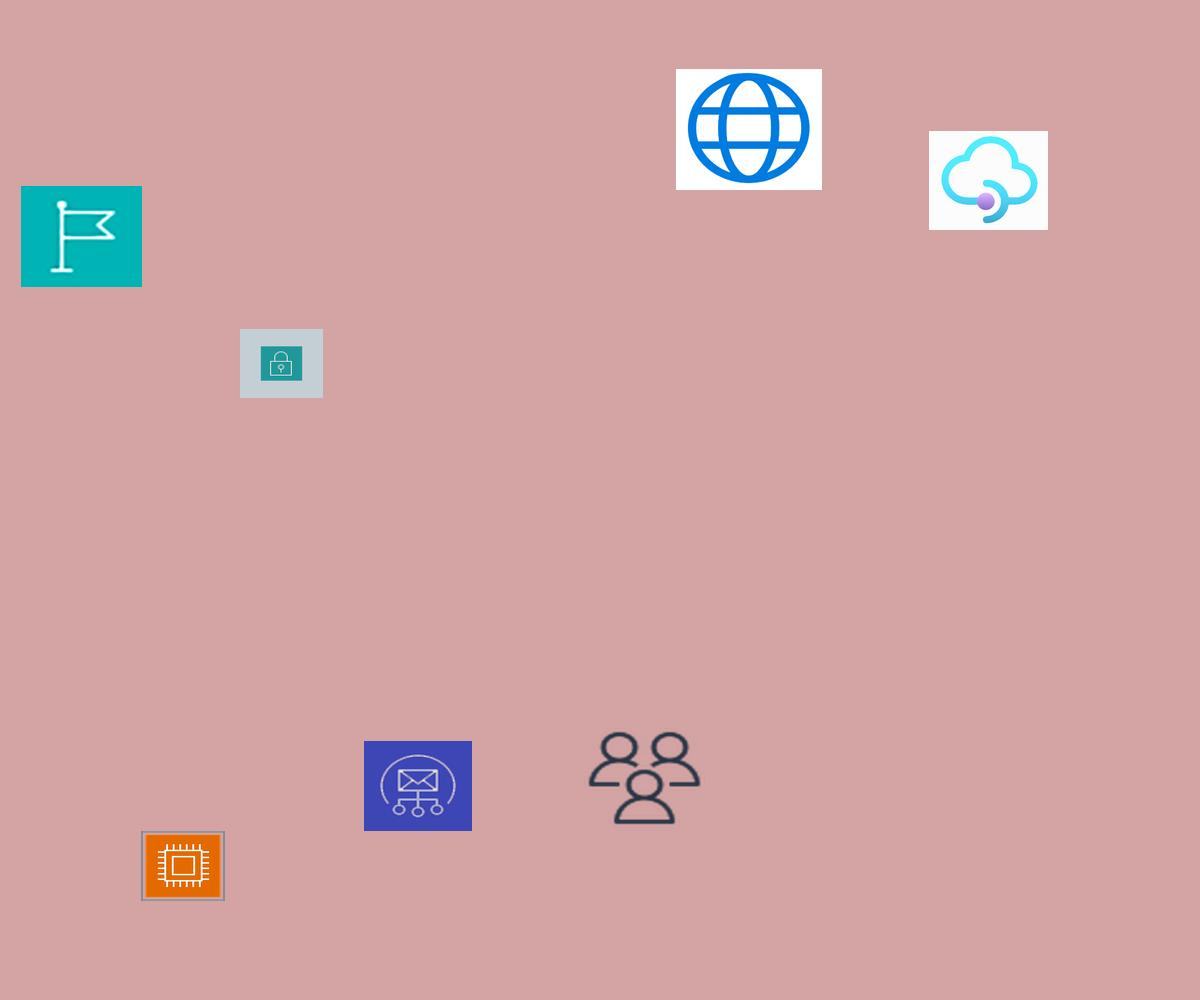AWS-Category_Compute: (141, 831, 225, 901)
AWS-Private-subnet: (240, 329, 323, 398)
AWS-Region: (21, 186, 142, 287)
AWS-Res_Users: (584, 728, 705, 828)
AWS-Simple-Email-Service: (364, 741, 472, 831)
Azure_api_gateway: (929, 131, 1048, 230)
Azure_http: (676, 69, 822, 190)
